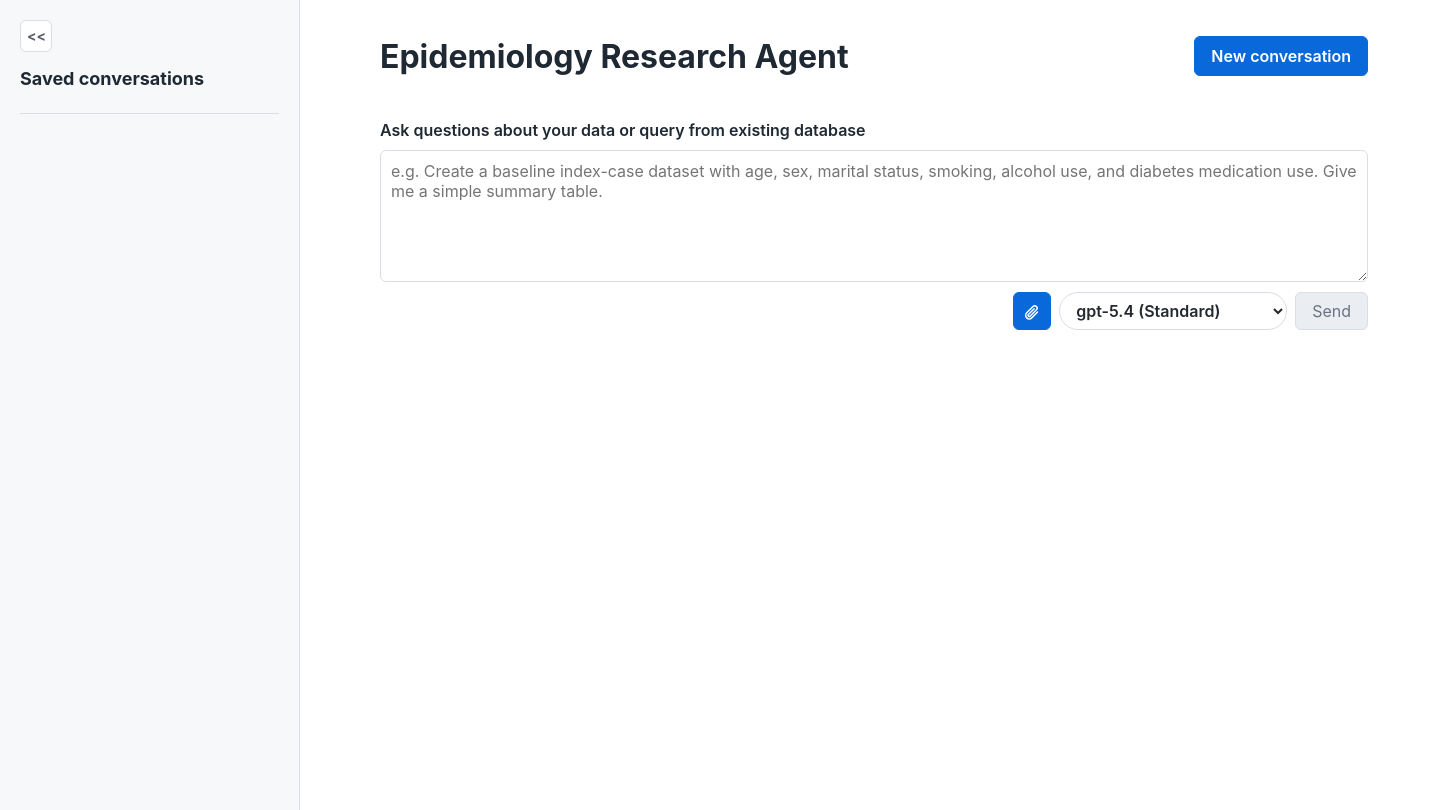
App › updates a polled activity in place without duplicating it
Replace the text in the text box named "Ask a question about your dataset!" with "Create a cohort" at (874, 216), box left=380, top=150, right=1368, bottom=282
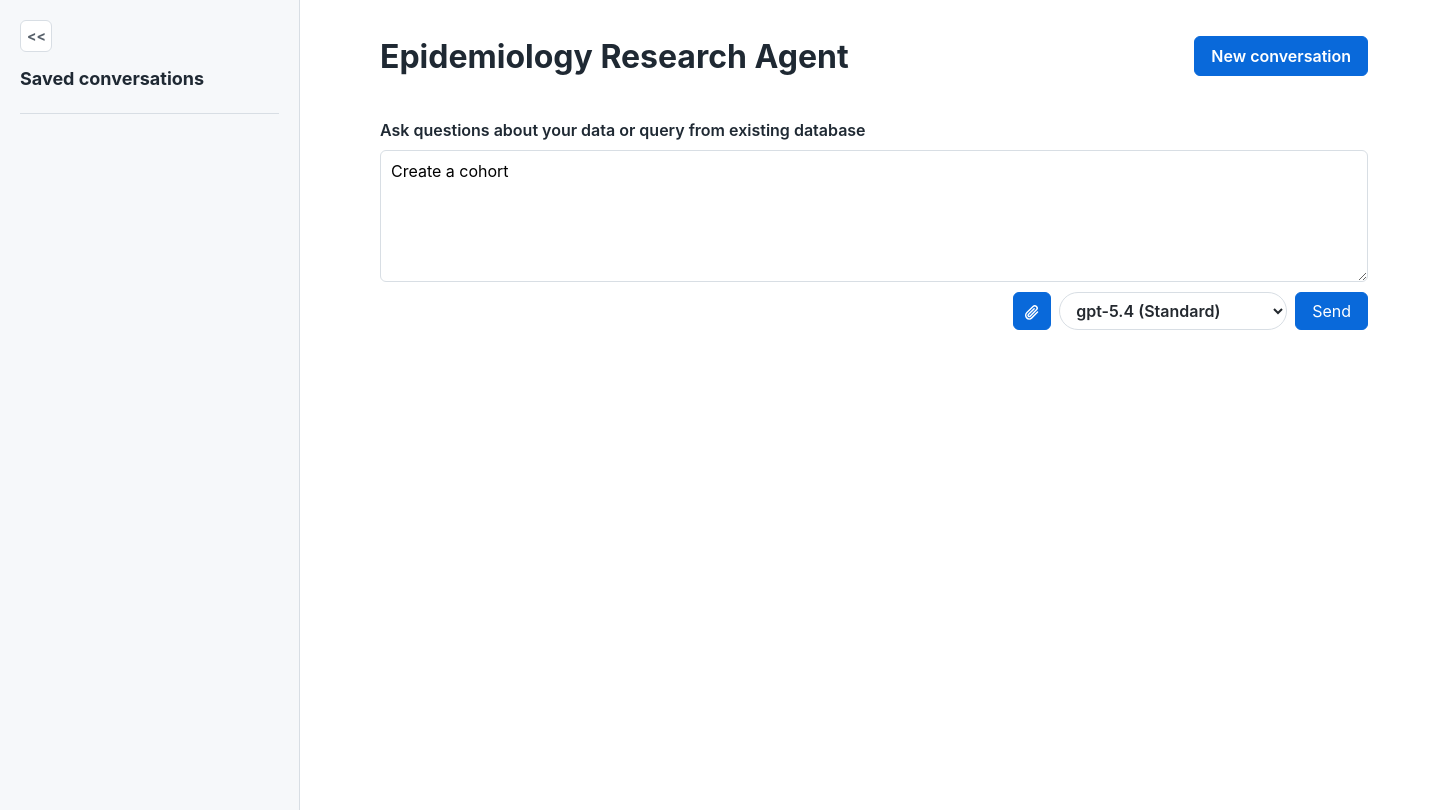
Click the button "Send" at (1332, 311), box left=1295, top=292, right=1368, bottom=330
Wait 1000 ms
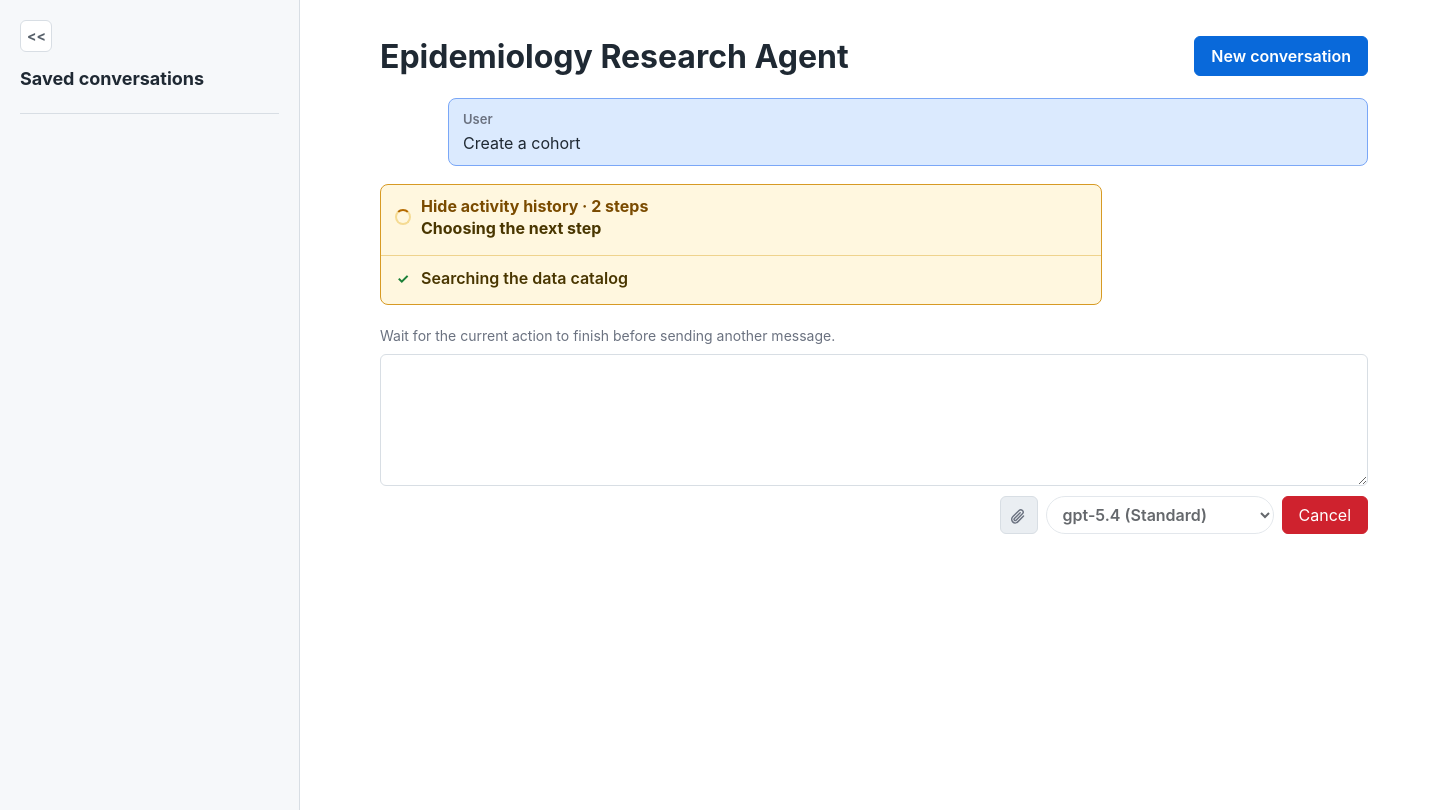
expect the text "Searching the data catalog" is shown once: met, box left=421, top=268, right=628, bottom=288
expect the text "Choosing the next step" is shown: met, box left=421, top=218, right=601, bottom=238
expect the number of list items named "Agent activity timeline" is 1: met, box left=380, top=184, right=1102, bottom=305
